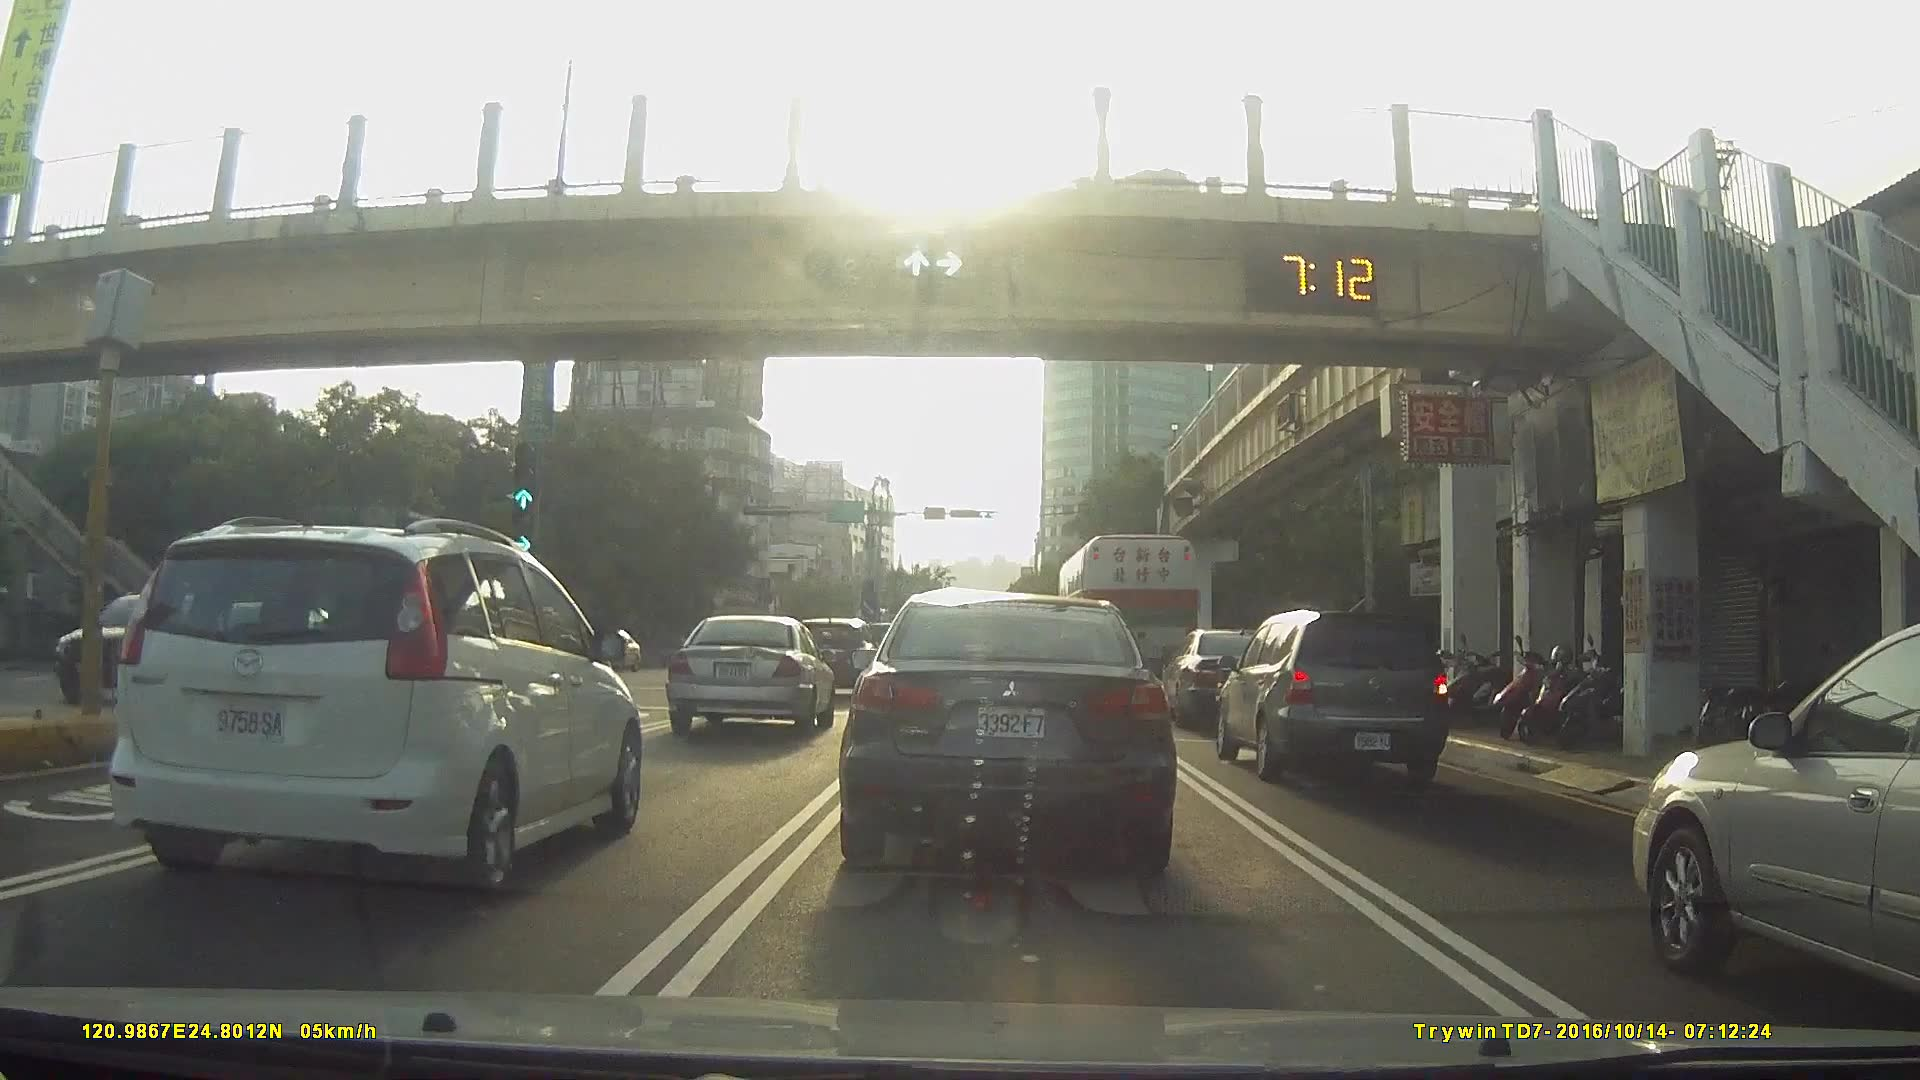vehicle: (99, 514, 645, 899), (1629, 622, 1920, 1007), (841, 585, 1174, 887), (1212, 607, 1449, 791), (1059, 535, 1213, 696), (666, 615, 835, 737), (1156, 626, 1284, 731), (793, 613, 880, 691)
